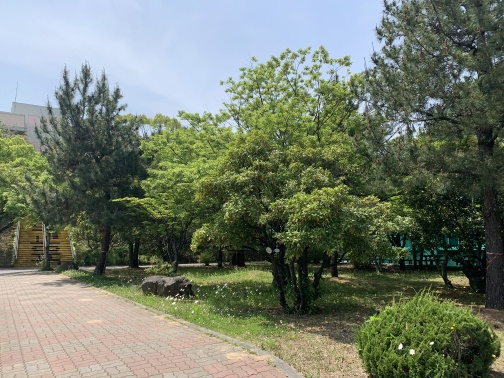Ara Hall: (368, 215, 493, 268)
College Of Education: (2, 96, 104, 174)
